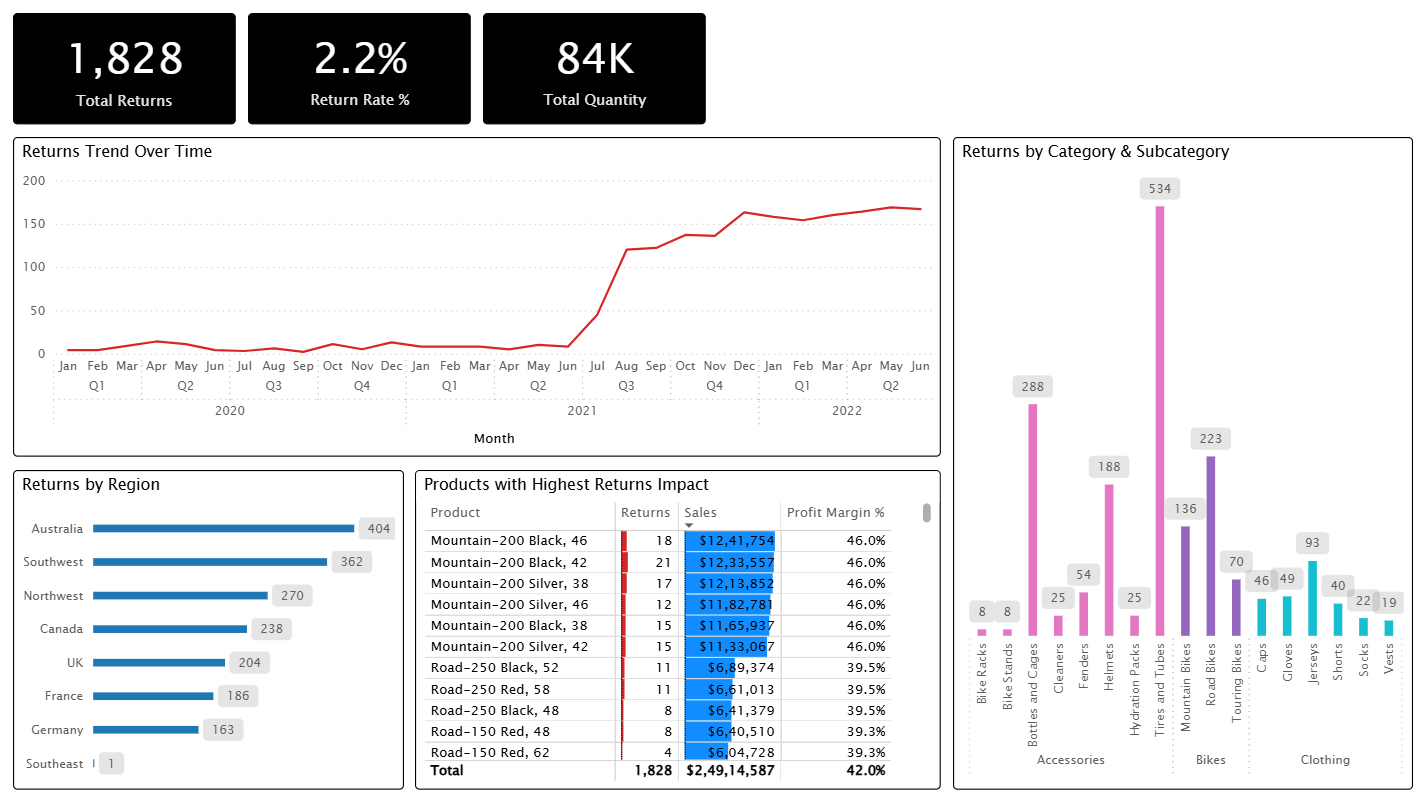

What the dashboard file says about the page in this screenshot:
{"tool":"powerbi","page":{"name":"Returns Impact Analysis","canvas":[1280,720],"ordinal":2},"visuals":[{"type":"card","fields":{"Values":["measure_table.Total Returns"]},"box":[12,11,200,100],"z":0},{"type":"card","fields":{"Values":["measure_table.Return Rate %"]},"box":[222.7,11,200.4,99.7],"z":1000},{"type":"card","fields":{"Values":["measure_table.Total Quantity"]},"box":[433.6,11,200.4,99.7],"z":2000},{"type":"lineChart","title":"Returns Trend Over Time","fields":{"Y":["measure_table.Total Returns"],"Category":["dim_date.Year","dim_date.QuarterText","dim_date.Month Short"]},"box":[11.8,122.4,833.4,287.5],"z":3000},{"type":"clusteredBarChart","title":"Returns by Region","fields":{"Y":["measure_table.Total Returns"],"Category":["dim_territory.Region"]},"box":[11.8,420.8,350.9,287.5],"z":7000},{"type":"clusteredColumnChart","title":"Returns by Category & Subcategory","fields":{"Category":["dim_product.CategoryName","dim_product.SubcategoryName"],"Y":["measure_table.Total Returns"]},"box":[855.1,122.4,412.6,585.8],"z":8000},{"type":"tableEx","title":"Products with Highest Returns Impact","fields":{"Values":["dim_product.ProductName","measure_table.Total Returns","measure_table.Total Sales","measure_table.Profit Margin %"]},"box":[372.7,420.8,472.4,287.5],"z":9000}]}

Visuals, with their boxes in screenshot pixels (x1, y1, x2, y2), scaled from the page's 1280x720 canvas onto the 1426x803 screenshot:
card - measure_table.Total Returns: <bbox>13, 12, 236, 124</bbox>
card - measure_table.Return Rate %: <bbox>248, 12, 471, 123</bbox>
card - measure_table.Total Quantity: <bbox>483, 12, 706, 123</bbox>
"Returns Trend Over Time" lineChart: <bbox>13, 137, 942, 457</bbox>
"Returns by Region" clusteredBarChart: <bbox>13, 469, 404, 790</bbox>
"Returns by Category & Subcategory" clusteredColumnChart: <bbox>953, 137, 1412, 790</bbox>
"Products with Highest Returns Impact" tableEx: <bbox>415, 469, 941, 790</bbox>
